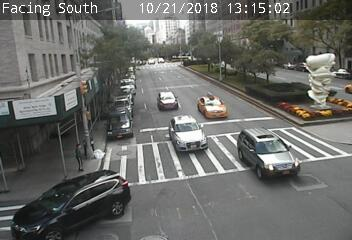car: (243, 131, 295, 173), (170, 117, 206, 149), (199, 97, 224, 119), (158, 93, 177, 110)
